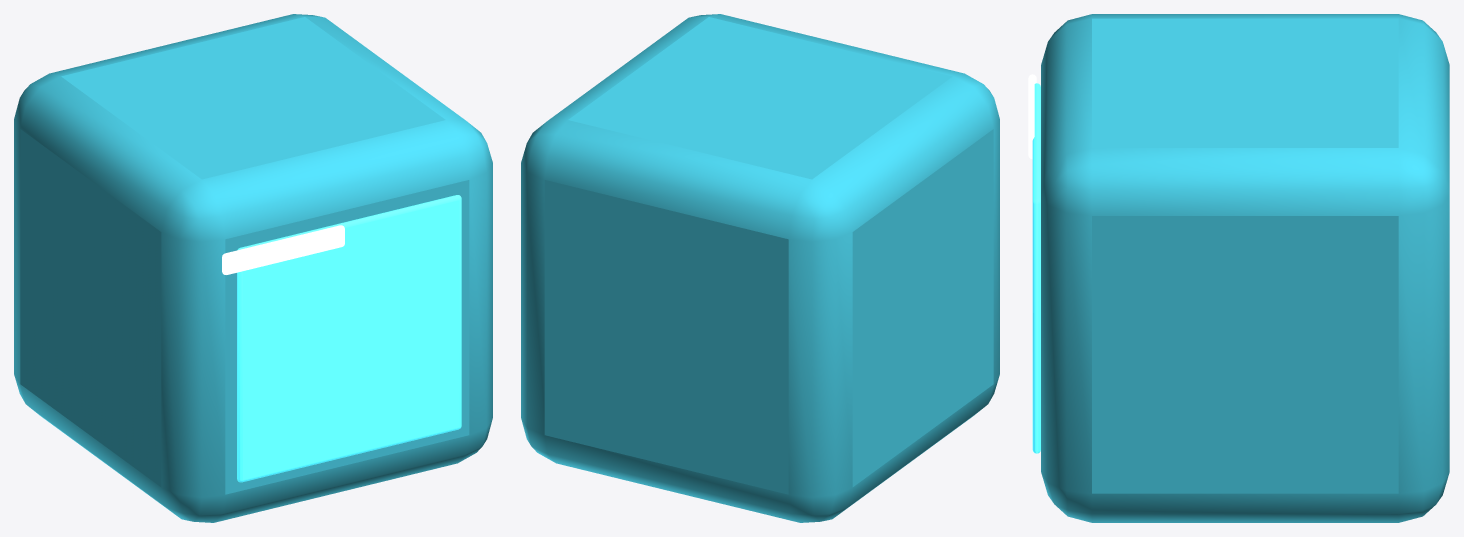
Rendered from kostka_i.glb.
3 views of the same model, side by side, from view 1: azimuth 30°, elevation 25°; view 2: azimuth 150°, elevation 25°; view 3: azimuth 270°, elevation 25° (orthographic). The views are drawn at different scales.
Visible parts, largest first — view 1: kostka_i_m, kostka_i_lesk, kostka_i_hrana; view 2: kostka_i_m; view 3: kostka_i_m, kostka_i_lesk, kostka_i_hrana.
Boxes of the visible parts, x1=… form: kostka_i_m: x1=14, y1=14, x2=492, y2=522; kostka_i_lesk: x1=237, y1=195, x2=461, y2=482; kostka_i_hrana: x1=222, y1=225, x2=344, y2=274; kostka_i_m: x1=521, y1=14, x2=999, y2=522; kostka_i_m: x1=1041, y1=14, x2=1449, y2=522; kostka_i_lesk: x1=1032, y1=83, x2=1040, y2=453; kostka_i_hrana: x1=1028, y1=74, x2=1036, y2=159.
Bounding box in the file's own units: 0.96 × 0.96 × 0.99.
